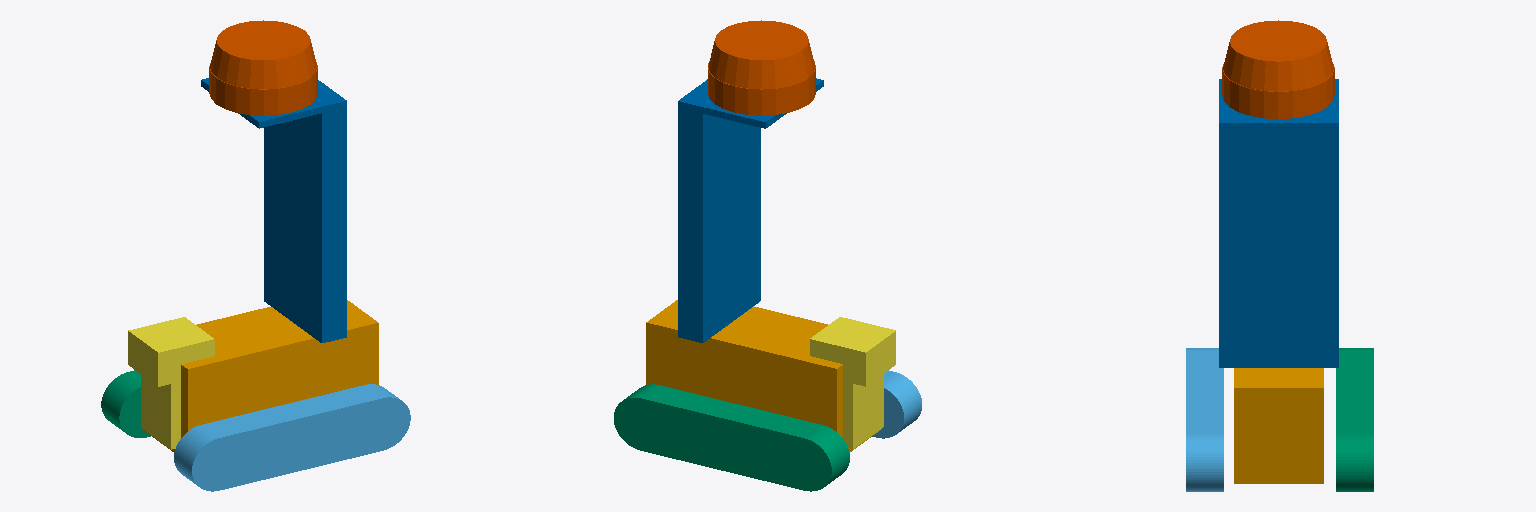
robot.urdf — rostank:
<?xml version="1.0"?>

<!-- NOTE: The cad models were made in tinkercad, so they are all relative to each other.
           To save me a current headache, the joints are all at origin 
     This might help resolve in the future: http://gazebosim.org/tutorials?tut=guided_i2 -->

<robot name="rostank">
  <link name="base_link">
    <visual>
      <origin rpy="0 0 0" xyz="0 0.08 0"/>
      <geometry>
        <mesh filename="package://rostank_description/models/base.stl" 
              scale="0.001 0.001 0.001" />
      </geometry>
    </visual>
  </link>

  <!-- base_footprint is the projection of base_link into the ground plane
         this should have the same pose as base_link, as we aren't jumping around -->
  <!-- better use a static_transform_publisher
  <joint name="base_link_to_base_footprint_joint" type="fixed">
    <parent link="base_link"/>
    <child link="base_footprint"/>
    <origin xyz="0 0 0"/>
  </joint>
  <link name="base_footprint">
    <visual>
      <origin rpy="0 0 0" xyz="0 0.08 0"/>
    </visual>
  </link-->

  <joint name="base_link_to_left_tread_joint" type="fixed">
    <parent link="base_link"/>
    <child link="left_tread"/>
    <origin xyz="0 0 0"/>
  </joint>
  <link name="left_tread">
    <visual>
      <origin rpy="0 0 0" xyz="0 0.08 0"/>
      <geometry>
        <mesh filename="package://rostank_description/models/tread.stl" 
              scale="0.001 0.001 0.001" />
      </geometry>
    </visual>
  </link>

  <joint name="base_link_to_right_tread_joint" type="fixed">
    <parent link="base_link"/>
    <child link="right_tread"/>
    <origin xyz="0 0 0"/>
  </joint>
  <link name="right_tread">
    <visual>
      <origin rpy="0 0 0" xyz="0 0.180 0"/>
      <geometry>
        <mesh filename="package://rostank_description/models/tread.stl" 
              scale="0.001 0.001 0.001" />
      </geometry>
    </visual>
  </link>


  <joint name="base_link_to_camera_assy_joint" type="fixed">
    <parent link="base_link"/>
    <child link="camera_assy"/>
    <origin xyz="0 0 0"/>
  </joint>
  <link name="camera_assy">
    <visual>
      <origin rpy="0 0 0" xyz="0 0.08 0"/>
      <geometry>
        <mesh filename="package://rostank_description/models/camera_assy.stl" 
              scale="0.001 0.001 0.001" />
      </geometry>
    </visual>
  </link>


  <joint name="base_link_to_lidar_jig_joint" type="fixed">
    <parent link="base_link"/>
    <child link="lidar_jig"/>
    <origin xyz="0 0 0"/>
  </joint>
  <link name="lidar_jig">
    <visual>
      <origin rpy="0 0 0" xyz="0 0.08 0"/>
      <geometry>
        <mesh filename="package://rostank_description/models/jig.stl" 
              scale="0.001 0.001 0.001" />
      </geometry>
    </visual>
  </link>


  <joint name="lidar_jig_link_to_lidar_mesh_joint" type="fixed">
    <parent link="lidar_jig"/>
    <child link="lidar_mesh"/>
    <origin xyz="0 0 0"/>
  </joint>
  <link name="lidar_mesh">
    <visual>
      <origin rpy="0 0 0" xyz="0 0.08 0"/>
      <geometry>
        <mesh filename="package://rostank_description/models/lidar.stl" 
              scale="0.001 0.001 0.001" />
      </geometry>
    </visual>
  </link>


  <joint name="base_link_to_lidar_joint" type="fixed">
    <parent link="base_link"/>
    <child link="lidar"/>
    <origin xyz="0.02 0 0.29"/>
  </joint>
  <link name="lidar">
    <visual>
      <origin rpy="0 0 0" xyz="0 0 0"/>
      <geometry>
        <cylinder length="0.01" radius="0.01" />
      </geometry>
    </visual>
  </link>



</robot>

--- Render facts (derived) ---
The picture shows the robot from 3 angles, left to right: view 1: azimuth 30°, elevation 25°; view 2: azimuth 150°, elevation 25°; view 3: azimuth 270°, elevation 25°; orthographic projection.
Robot: rostank — 7 links, 6 joints (6 fixed); root link base_link; default pose: every joint at zero.
Links seen in each view (by area): view 1: lidar_jig, base_link, left_tread, lidar_mesh, camera_assy, right_tread; view 2: lidar_jig, base_link, right_tread, lidar_mesh, camera_assy, left_tread; view 3: lidar_jig, base_link, lidar_mesh, right_tread, left_tread.
Boxes of the visible links, left/top/right/bottom form: lidar_jig: left=201, top=78, right=346, bottom=342; base_link: left=144, top=300, right=378, bottom=451; left_tread: left=174, top=384, right=410, bottom=491; lidar_mesh: left=209, top=20, right=317, bottom=115; camera_assy: left=128, top=317, right=214, bottom=449; right_tread: left=101, top=370, right=150, bottom=437; lidar_jig: left=678, top=78, right=823, bottom=342; base_link: left=646, top=300, right=879, bottom=452; right_tread: left=614, top=384, right=849, bottom=491; lidar_mesh: left=708, top=20, right=815, bottom=115; camera_assy: left=810, top=317, right=895, bottom=448; left_tread: left=872, top=370, right=921, bottom=438; lidar_jig: left=1219, top=79, right=1338, bottom=367; base_link: left=1234, top=368, right=1323, bottom=483; lidar_mesh: left=1222, top=20, right=1334, bottom=118; right_tread: left=1336, top=348, right=1373, bottom=491; left_tread: left=1186, top=348, right=1223, bottom=491.
Bounding box of the posed robot: 0.177 × 0.125 × 0.301 m (x, y, z).
6 mesh visuals loaded from 5 distinct referenced files (5 binary STL).